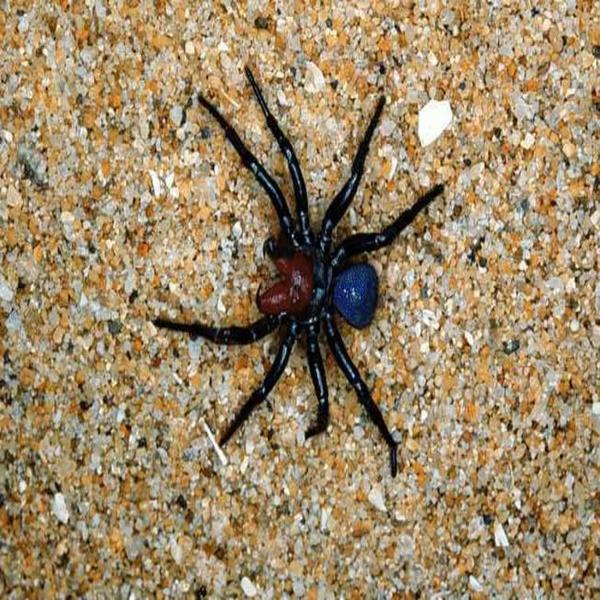Red Headed Mouse Spider: (165, 70, 436, 462)
